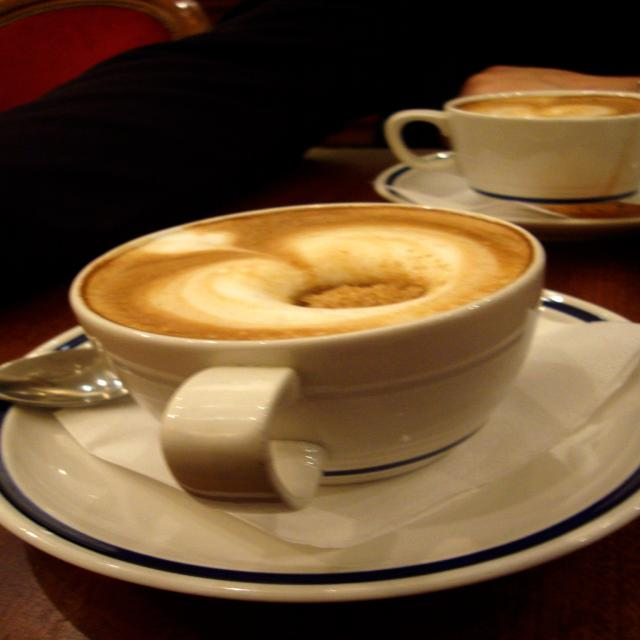Coffee: (78, 206, 535, 340), (451, 94, 639, 120)
